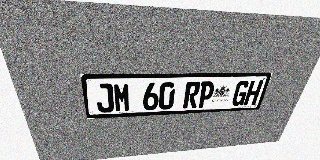0: (158, 82, 176, 110)
6: (143, 82, 160, 111)
G: (231, 81, 251, 106)
H: (243, 80, 264, 105)
J: (94, 83, 114, 113)
M: (113, 83, 131, 112)
P: (197, 81, 216, 108)
R: (183, 81, 201, 109)
